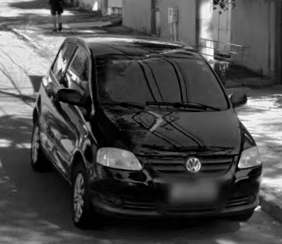car: (32, 35, 264, 232)
